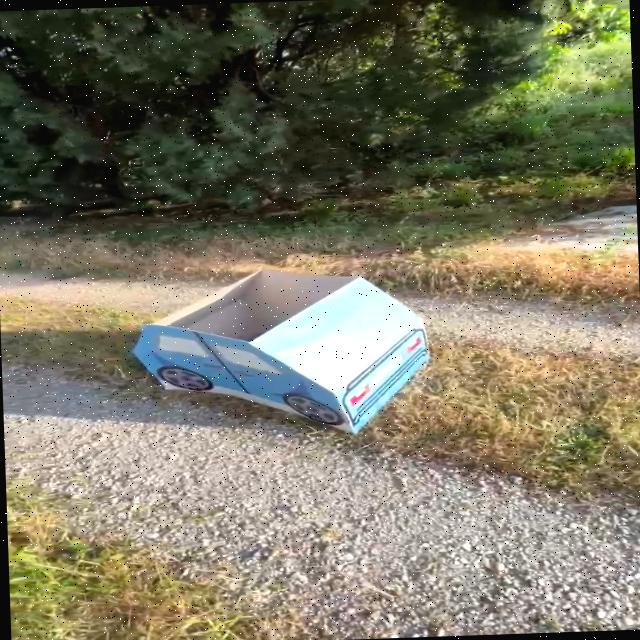blue_car: (108, 255, 447, 457)
